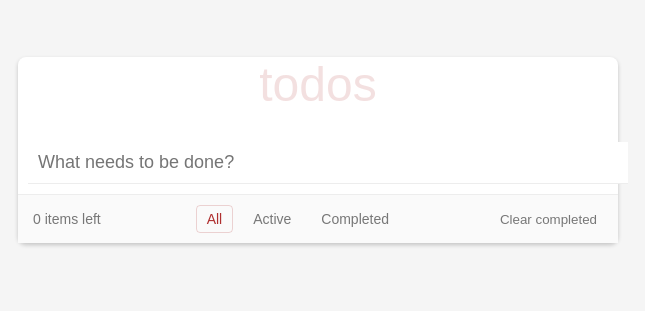
Scenario: Tasks component › clears completed tasks
# Add two tasks
Type "Task 1" into the field with placeholder "What needs to be done?".
click(328, 163); type("Task 1")  # box [28, 142, 628, 184]
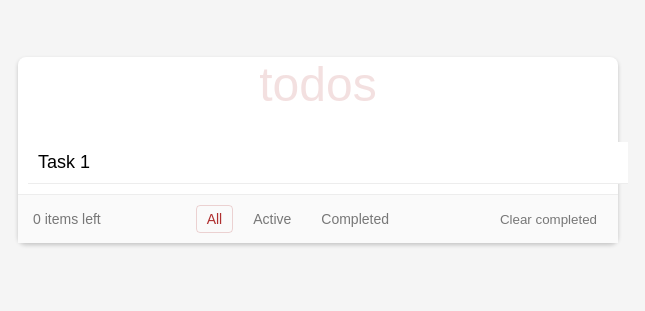
Press Enter in the field with placeholder "What needs to be done?", box [28, 142, 628, 184]
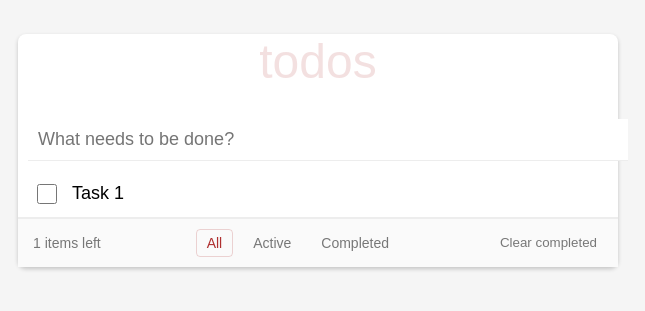
Type "Task 2" into the field with placeholder "What needs to be done?".
click(328, 140); type("Task 2")  # box [28, 118, 628, 160]
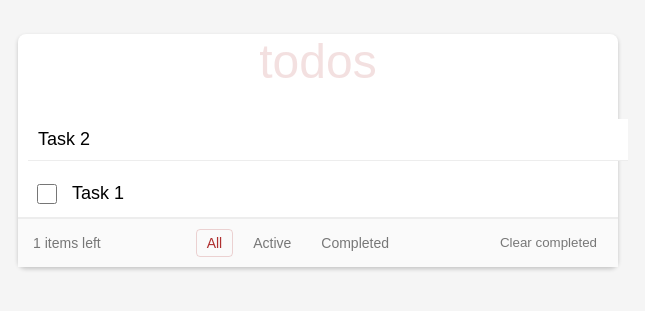
Press Enter in the field with placeholder "What needs to be done?", box [28, 118, 628, 160]
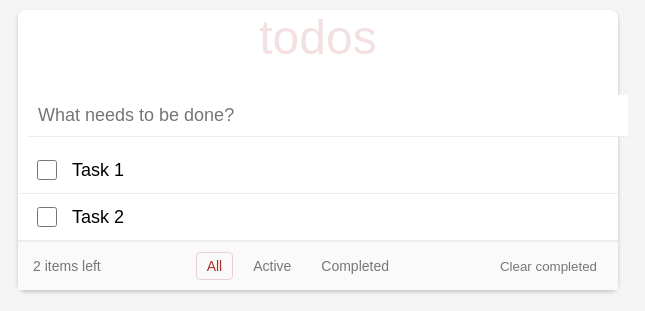
# Complete the first task
Click the checkbox next to "Task 1".
click(47, 170)  # box [37, 160, 57, 180]
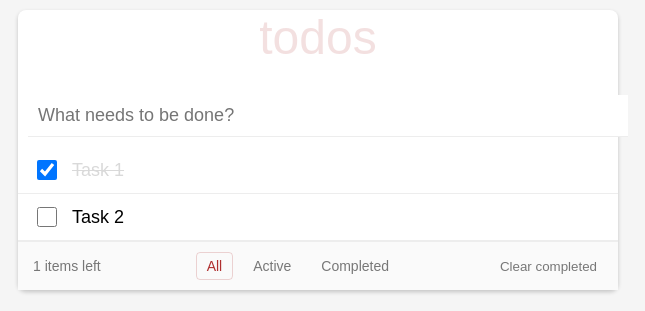
# Clear completed tasks
Click the button "Clear completed".
click(548, 266)  # box [494, 258, 603, 274]
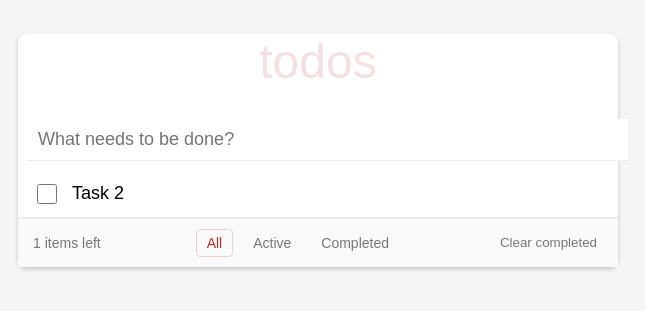
Check: the text "Task 1" is gone
Check: the text "Task 2" is shown, box [72, 183, 124, 203]
